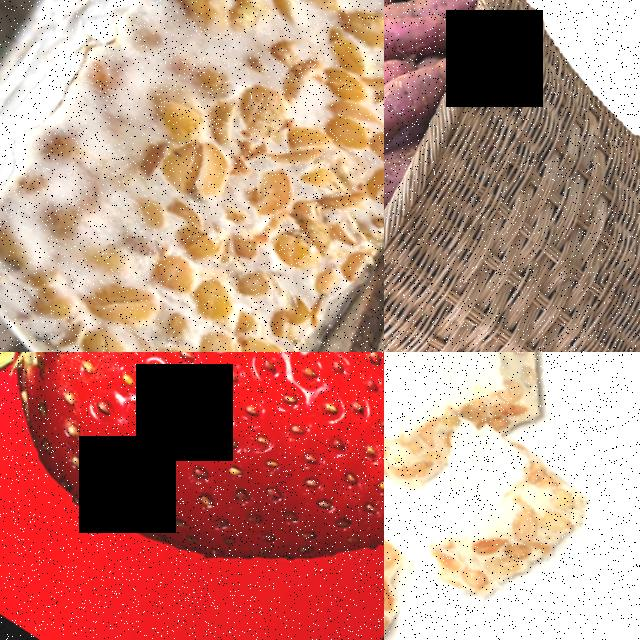strawberry: (0, 352, 384, 640)
sweet potato: (384, 57, 439, 159), (384, 144, 406, 248)
tempeh: (0, 0, 384, 352), (387, 402, 604, 616), (384, 352, 629, 519), (384, 496, 447, 640)
